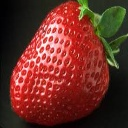strawberry: (9, 1, 120, 125)
